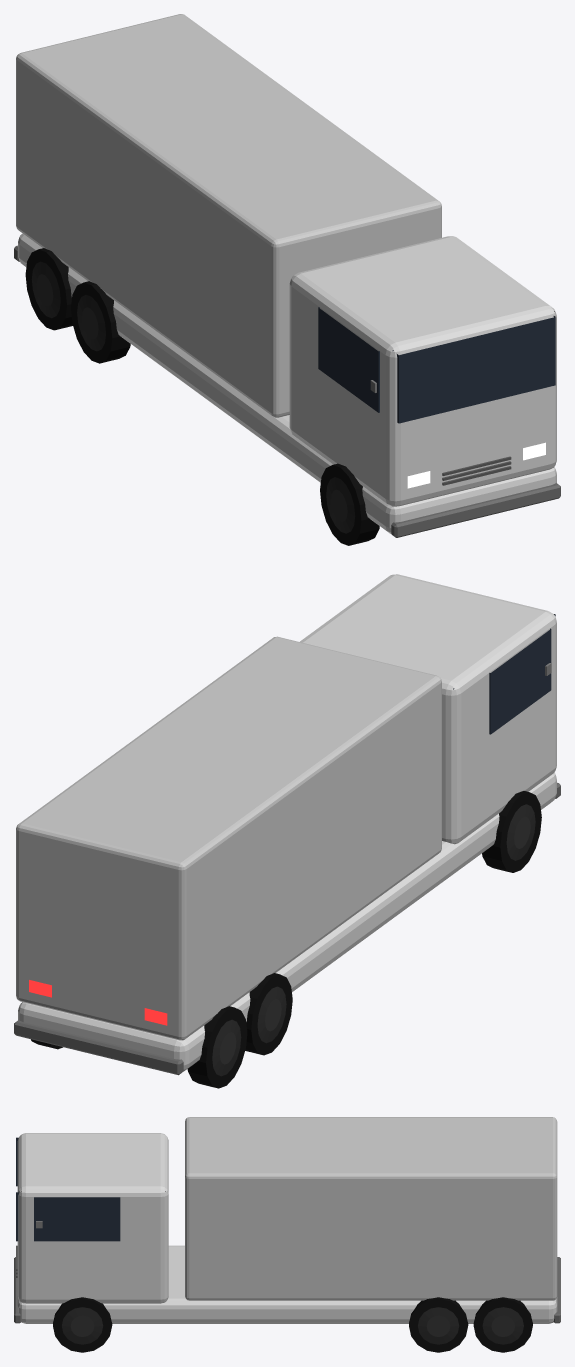
File: truck.glb
3 renders of one model, top to bottom at view 1: azimuth 30°, elevation 25°; view 2: azimuth 150°, elevation 25°; view 3: azimuth 270°, elevation 25°, orthographic. The views are drawn at different scales.
Visible parts, largest first — view 1: Body, WheelML, WheelFL, WheelRL; view 2: Body, WheelRL, WheelFL, WheelML; view 3: Body, WheelRR, WheelMR, WheelFR.
Boxes of the visible parts, x1,y1,x2,y2 form: Body: [14, 14, 560, 537]; WheelML: [71, 281, 130, 363]; WheelFL: [320, 463, 379, 545]; WheelRL: [25, 248, 72, 330]; Body: [14, 574, 560, 1075]; WheelRL: [187, 1006, 247, 1088]; WheelFL: [482, 791, 541, 872]; WheelML: [245, 973, 292, 1055]; Body: [14, 1117, 560, 1323]; WheelRR: [473, 1297, 532, 1352]; WheelMR: [409, 1297, 468, 1352]; WheelFR: [53, 1297, 112, 1352].
Size of the model in its own units: 2.8 by 3.6 by 10.14.
